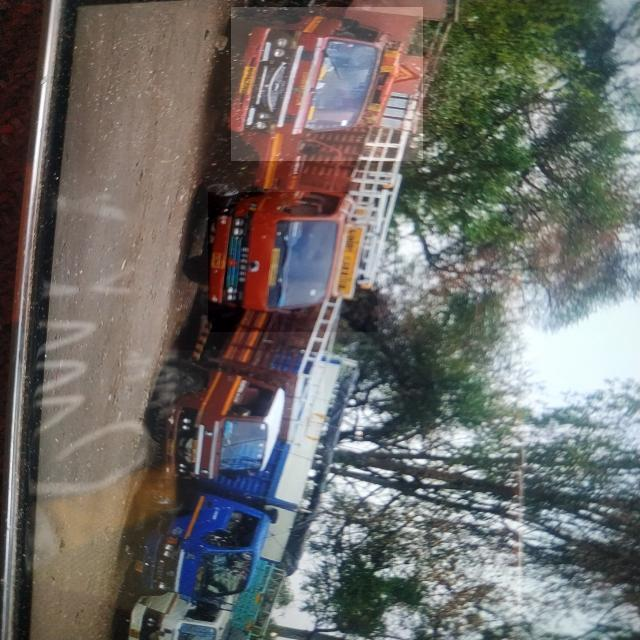Truck: (231, 7, 423, 161), (166, 350, 324, 510), (208, 192, 378, 332)
